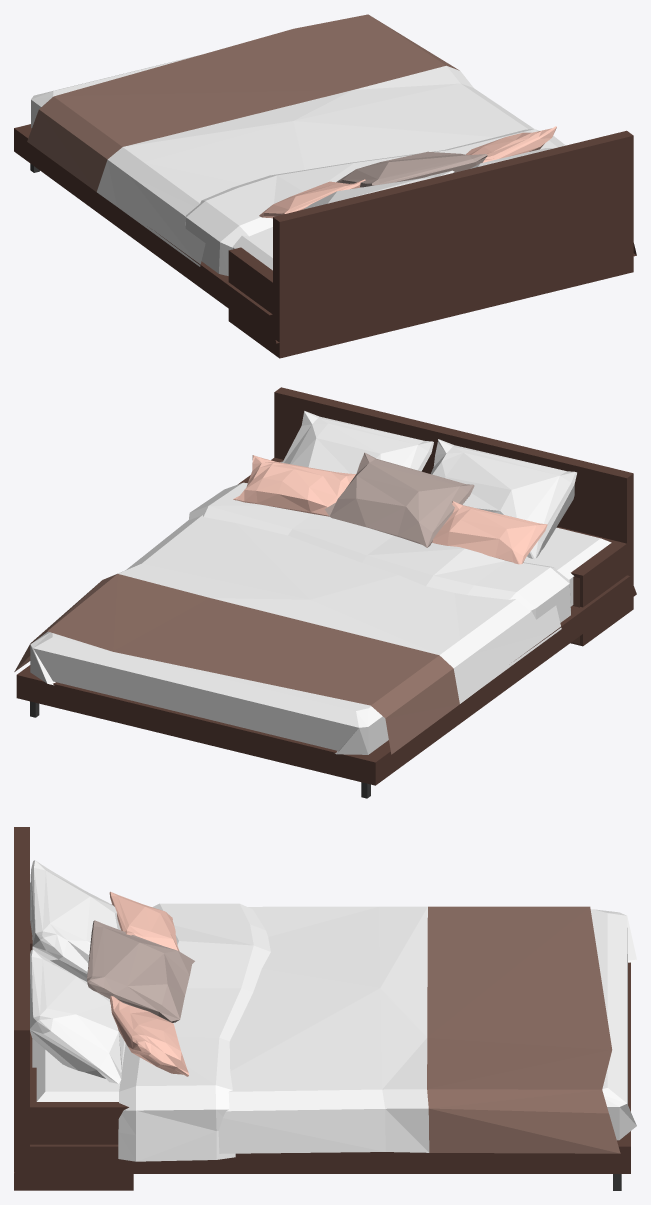
Rendered from bed.glb.
3 views of the same model, one above another, from view 1: azimuth 30°, elevation 25°; view 2: azimuth 150°, elevation 25°; view 3: azimuth 270°, elevation 25° (orthographic). The views are drawn at different scales.
Parts seen in each view (by area): view 1: bed; view 2: bed; view 3: bed.
Boxes of the visible parts, left/top/right/bottom form: bed: left=14, top=14, right=636, bottom=358; bed: left=14, top=387, right=636, bottom=798; bed: left=14, top=827, right=636, bottom=1190.
Bounding box in the file's own units: 1.73 × 0.6147 × 2.11.
1 material, 1 textured.
